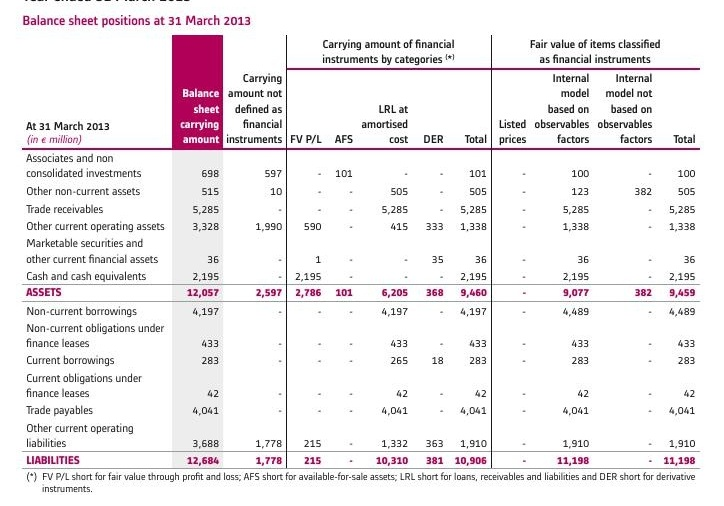table: (0, 0, 724, 506)
